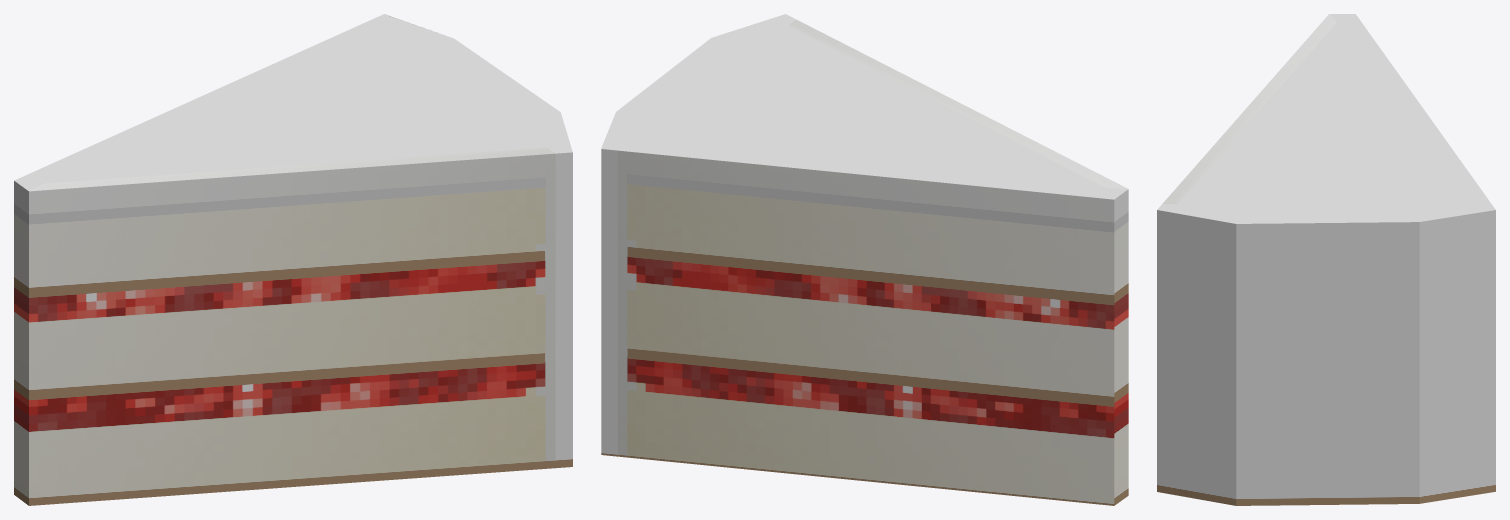
The model's file is cake_uvmapped003.fbx.
The picture shows the model from 3 angles, left to right: view 1: azimuth 30°, elevation 25°; view 2: azimuth 150°, elevation 25°; view 3: azimuth 270°, elevation 25°; orthographic projection. The views are drawn at different scales.
Parts seen in each view (by area): view 1: cake_uv.002; view 2: cake_uv.002; view 3: cake_uv.002.
Part boxes in pixels (x1,y1,x2,y2): cake_uv.002: (14,14,572,505); cake_uv.002: (601,14,1128,505); cake_uv.002: (1157,14,1495,505).
Size of the model in its own units: 110 by 69.14 by 75.3.
